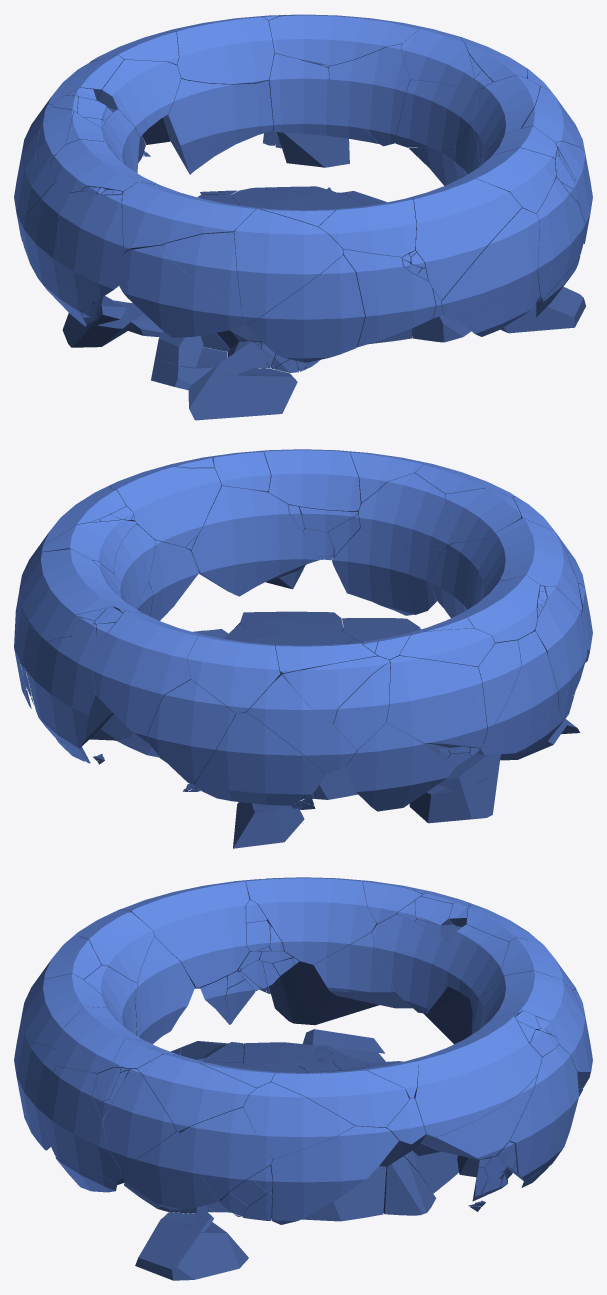
Rendered from Broken Bowl.fbx.
3 views of the same model, one above another, from view 1: azimuth 30°, elevation 25°; view 2: azimuth 150°, elevation 25°; view 3: azimuth 270°, elevation 25° (orthographic).
Parts seen in each view (by area): view 1: Torus_cell.061, Torus_cell.058, Torus_cell.133, Torus_cell.011, Torus_cell.113, Torus_cell.073, Torus_cell.016, Torus_cell.017, Torus_cell.025, Torus_cell.229, Torus_cell.020, Torus_cell.080 (+37 smaller); view 2: Torus_cell.218, Torus_cell.016, Torus_cell.181, Torus_cell.088, Torus_cell.024, Torus_cell.229, Torus_cell.204, Torus_cell.067, Torus_cell.013, Torus_cell.177, Torus_cell.182, Torus_cell.017 (+37 smaller); view 3: Torus_cell.229, Torus_cell.017, Torus_cell.042, Torus_cell.043, Torus_cell.227, Torus_cell.024, Torus_cell.027, Torus_cell.217, Torus_cell.201, Torus_cell.016, Torus_cell.213, Torus_cell.179 (+37 smaller).
Boxes of the visible parts, box(x1,y1,x2,y2) form: Torus_cell.061: box(411, 178, 521, 300); Torus_cell.058: box(234, 209, 342, 324); Torus_cell.133: box(246, 255, 364, 362); Torus_cell.011: box(163, 79, 273, 174); Torus_cell.113: box(119, 245, 245, 337); Torus_cell.073: box(58, 191, 123, 305); Torus_cell.016: box(142, 17, 274, 144); Torus_cell.017: box(122, 182, 260, 253); Torus_cell.025: box(269, 53, 378, 143); Torus_cell.229: box(269, 14, 445, 65); Torus_cell.020: box(188, 342, 297, 420); Torus_cell.080: box(342, 248, 435, 347); Torus_cell.218: box(191, 485, 327, 596); Torus_cell.016: box(92, 611, 239, 743); Torus_cell.181: box(386, 656, 487, 748); Torus_cell.088: box(194, 712, 325, 805); Torus_cell.024: box(23, 636, 113, 748); Torus_cell.229: box(17, 549, 143, 638); Torus_cell.204: box(345, 722, 455, 811); Torus_cell.067: box(110, 467, 221, 547); Torus_cell.013: box(332, 526, 436, 615); Torus_cell.177: box(147, 680, 235, 784); Torus_cell.182: box(359, 473, 452, 550); Torus_cell.017: box(478, 518, 581, 614); Torus_cell.229: box(414, 1012, 541, 1136); Torus_cell.017: box(121, 880, 251, 988); Torus_cell.042: box(246, 877, 378, 964); Torus_cell.043: box(270, 1125, 398, 1224); Torus_cell.227: box(40, 1066, 125, 1184); Torus_cell.024: box(496, 1044, 578, 1182); Torus_cell.027: box(372, 914, 461, 1013); Torus_cell.217: box(135, 1206, 248, 1280); Torus_cell.201: box(137, 1054, 256, 1132); Torus_cell.016: box(484, 970, 591, 1071); Torus_cell.213: box(181, 1107, 272, 1200); Torus_cell.179: box(243, 1082, 354, 1158).
Size of the model in its own units: 226 by 85.62 by 226.
